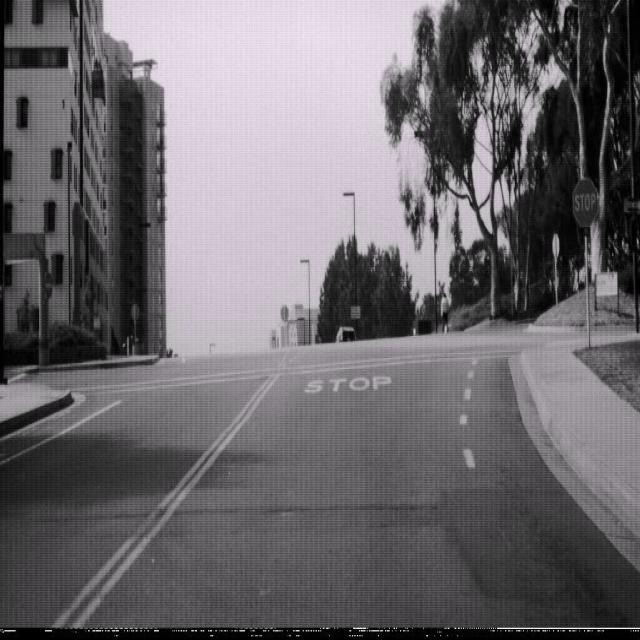stop_sign: (572, 177, 598, 228)
